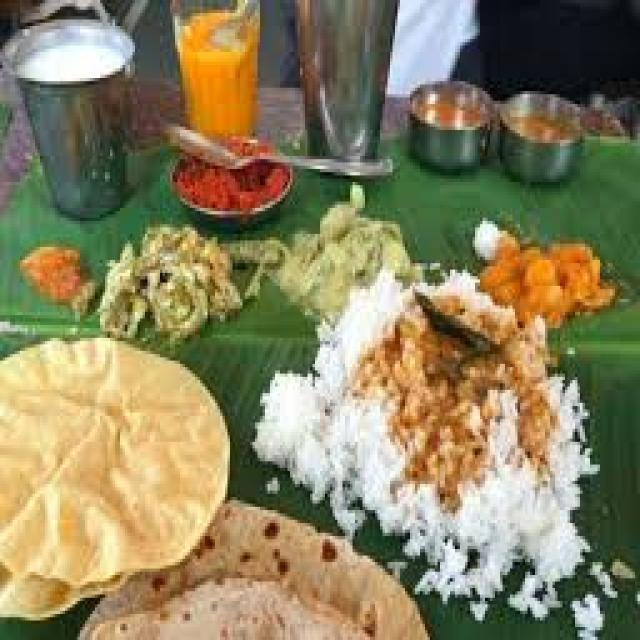dal: (502, 87, 584, 162)
papad: (0, 342, 235, 590)
pickle: (12, 241, 103, 315)
roti: (92, 494, 454, 640)
sambar-rasam: (406, 79, 499, 140)
veg-fry: (103, 216, 231, 351), (478, 216, 617, 332)
